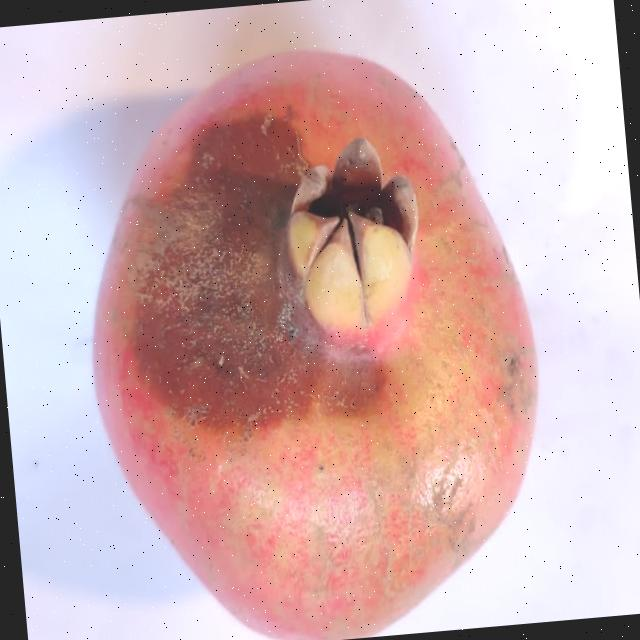Rotten: (65, 23, 564, 640)
